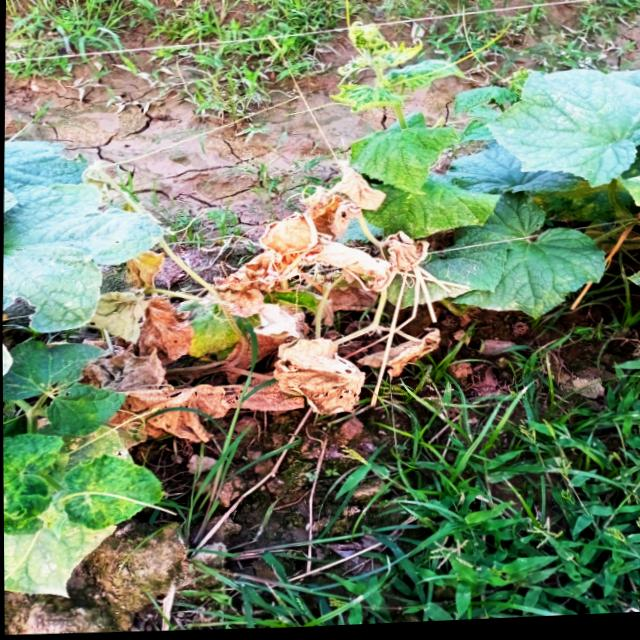Bacterial-Wilt: (109, 385, 230, 446), (272, 340, 365, 419), (137, 297, 196, 370), (85, 287, 151, 346)
